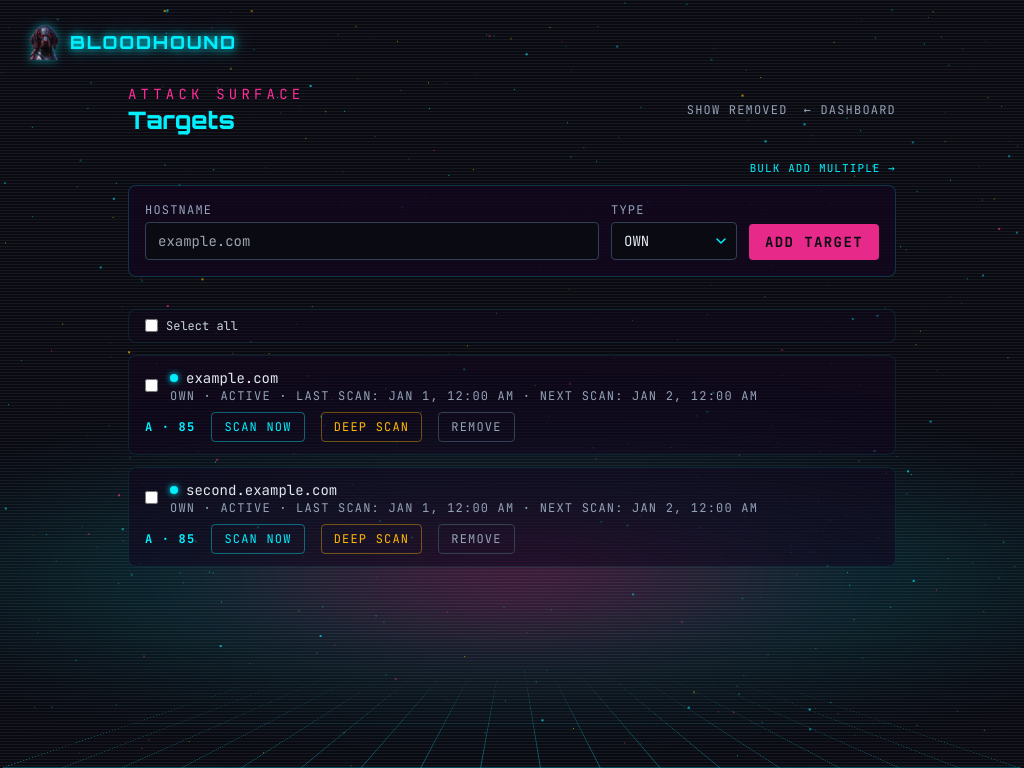
TargetsPage - bulk scan selection › reports a partial-failure summary when one of several scan requests fails
Expected: the link "example.com" is shown, [170, 368, 278, 386]
Click the checkbox named "select all visible targets".
click(152, 326)  # box [145, 319, 158, 332]
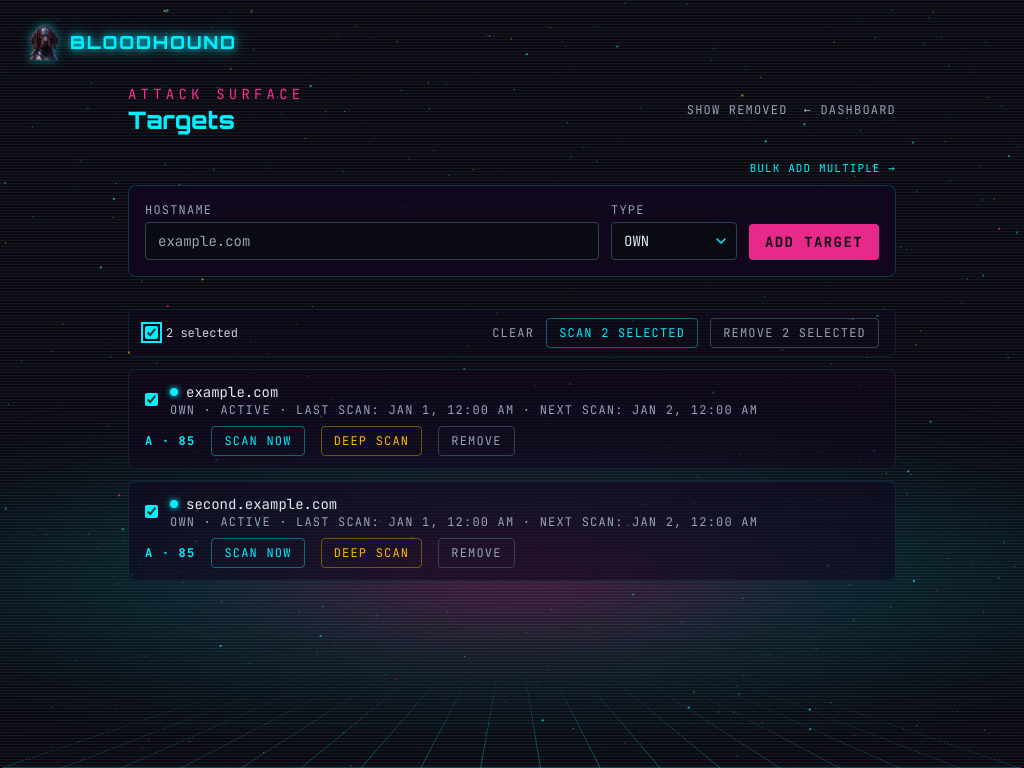
Click the button "Scan 2 selected".
click(622, 332)  # box [546, 318, 698, 348]
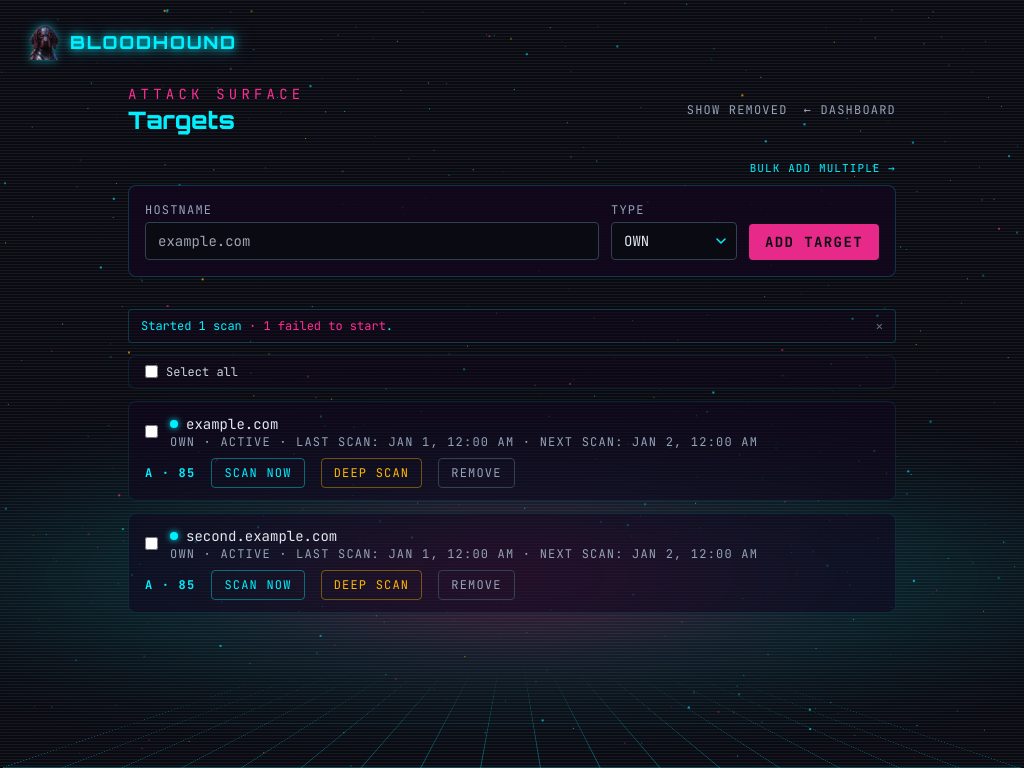
Expected: the message shows "Started 1 scan", [128, 308, 896, 342]
Expected: the message shows "1 failed to start", [128, 308, 896, 342]
